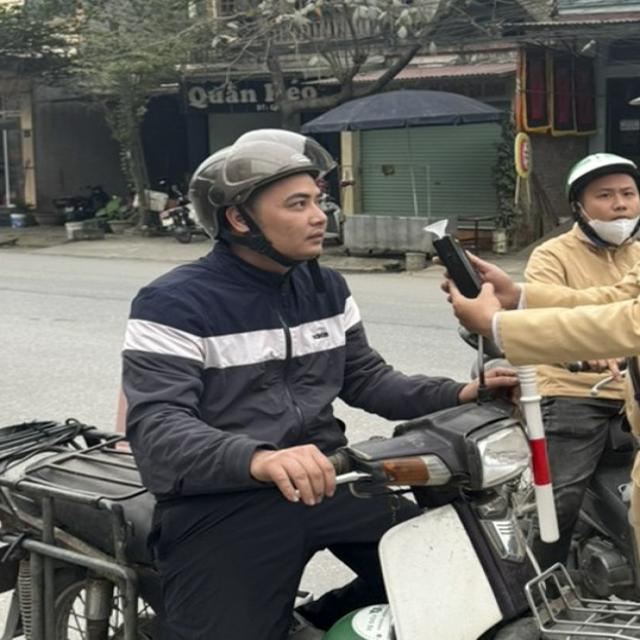1-2-helmet: (185, 124, 343, 244)
